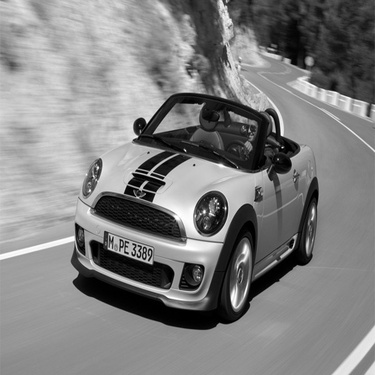car: (62, 81, 326, 321)
